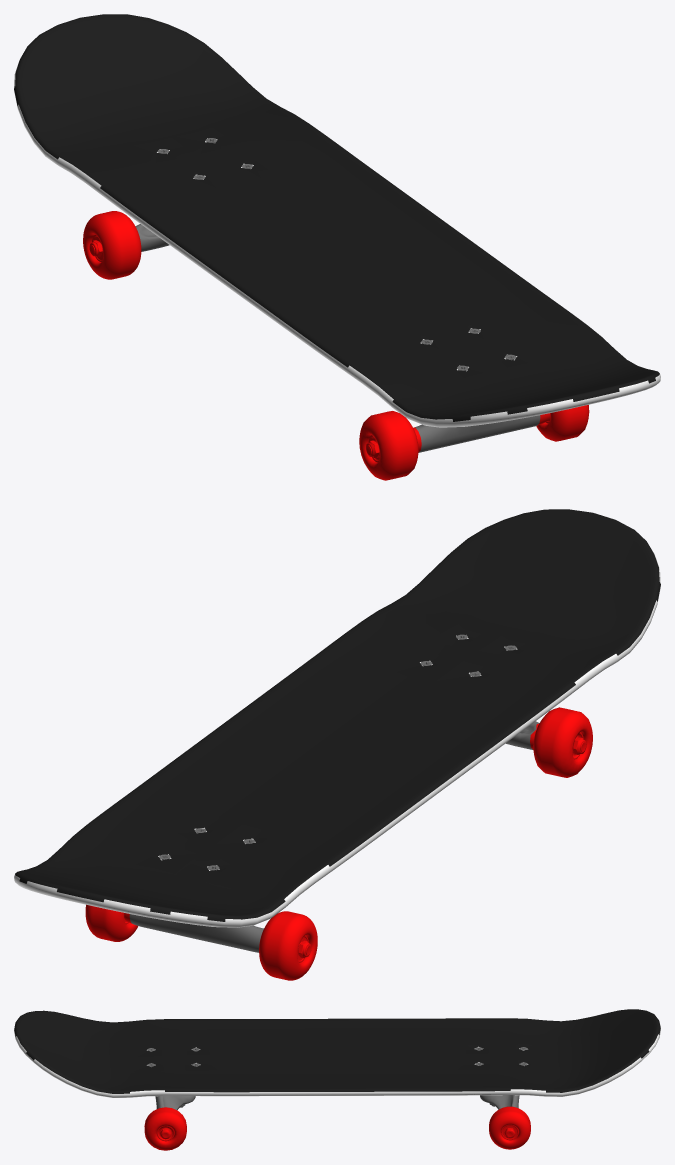
The model's file is skateboard.glb.
3 renders of one model, top to bottom at view 1: azimuth 30°, elevation 25°; view 2: azimuth 150°, elevation 25°; view 3: azimuth 270°, elevation 25°, orthographic. The views are drawn at different scales.
Parts seen in each view (by area): view 1: Board.001; view 2: Board.001; view 3: Board.001.
Boxes of the visible parts, bbox=[...] form: Board.001: bbox=[14, 14, 660, 480]; Board.001: bbox=[14, 509, 660, 980]; Board.001: bbox=[14, 1009, 660, 1150].
Size of the model in its own units: 0.2046 by 0.1306 by 0.793.
